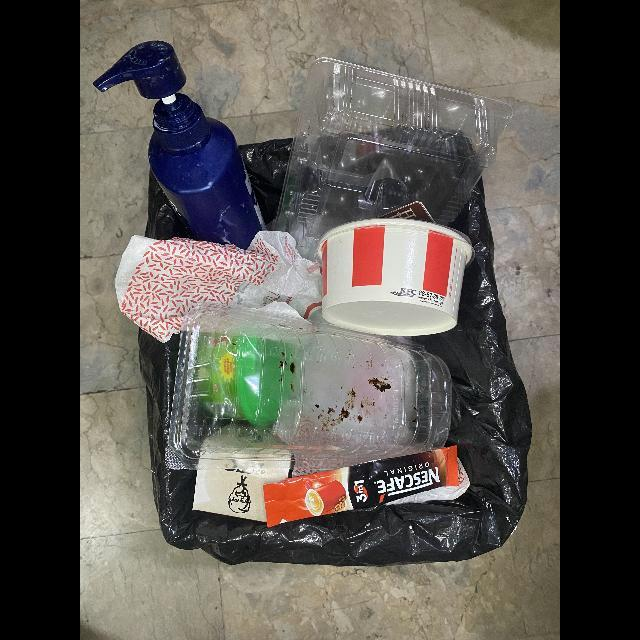cardboard: (317, 219, 474, 338), (193, 423, 293, 521)
paper: (114, 231, 323, 344)
plastic_bottle: (93, 40, 263, 250)
plastic_container: (278, 58, 514, 262), (166, 303, 452, 471)
plastic_sachet: (266, 447, 458, 529)
